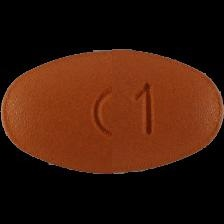16714-394: (0, 0, 224, 224)
